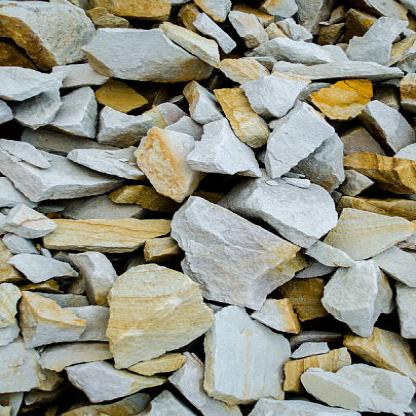Sedimentary_Limestone: (98, 267, 219, 372), (52, 215, 179, 255), (342, 145, 415, 204), (215, 82, 274, 152), (280, 354, 367, 394), (306, 78, 379, 122), (94, 2, 196, 30)
